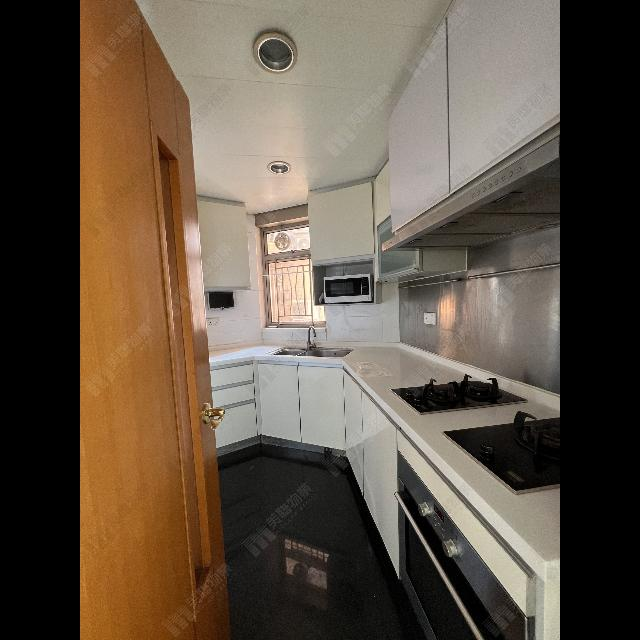Microwave: (323, 270, 377, 300)
